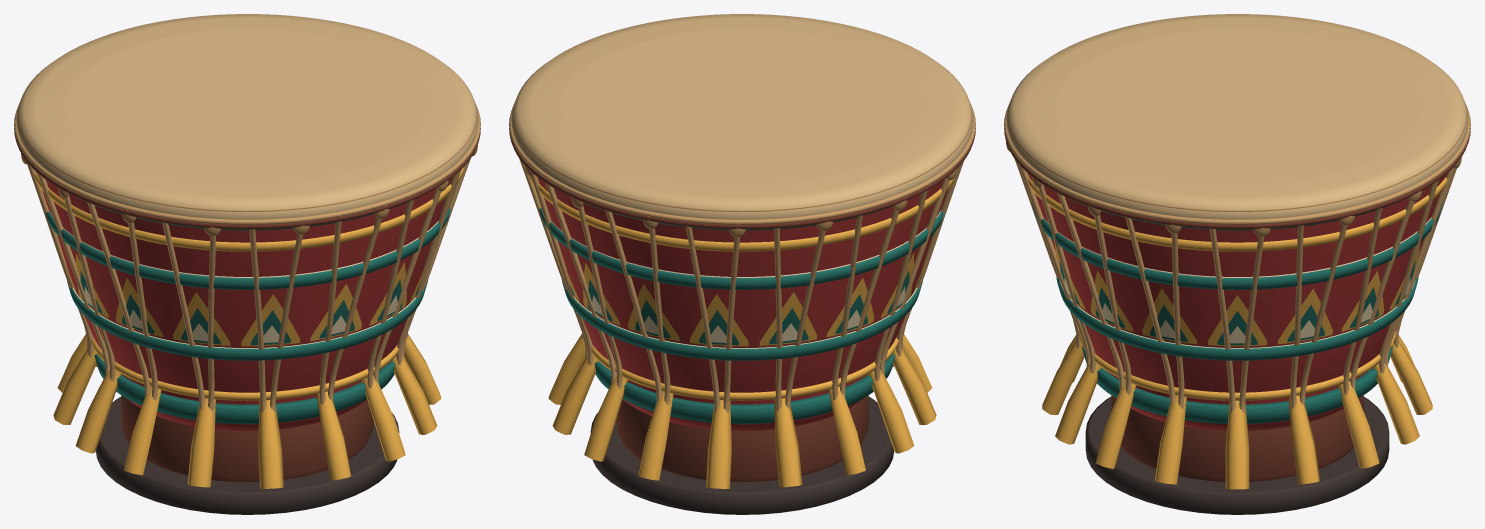
The picture shows the model from 3 angles, left to right: view 1: azimuth 30°, elevation 25°; view 2: azimuth 150°, elevation 25°; view 3: azimuth 270°, elevation 25°; orthographic projection.
Parts seen in each view (by area): view 1: Drumhead, Drum shell, Painted borders, Ring stand, Tension lacing, Tuning keys, Pucuk rebung ornament; view 2: Drumhead, Drum shell, Painted borders, Ring stand, Tension lacing, Tuning keys, Pucuk rebung ornament; view 3: Drumhead, Drum shell, Painted borders, Ring stand, Tension lacing, Tuning keys, Pucuk rebung ornament.
Part boxes in pixels (x1,y1,x2,y2): Drumhead: (14, 14, 480, 229); Drum shell: (35, 171, 452, 430); Painted borders: (34, 167, 464, 424); Ring stand: (96, 395, 399, 514); Tension lacing: (21, 144, 477, 412); Tuning keys: (53, 334, 441, 488); Pucuk rebung ornament: (64, 253, 425, 346); Drumhead: (509, 14, 975, 229); Drum shell: (537, 177, 947, 430); Painted borders: (528, 176, 954, 424); Ring stand: (590, 395, 893, 514); Tension lacing: (519, 149, 968, 412); Tuning keys: (548, 334, 936, 488); Pucuk rebung ornament: (565, 253, 925, 346); Drumhead: (1004, 14, 1470, 229); Drum shell: (1027, 173, 1446, 430); Painted borders: (1027, 177, 1447, 423); Ring stand: (1085, 395, 1389, 514); Tension lacing: (1006, 142, 1461, 412); Tuning keys: (1042, 335, 1432, 489); Pucuk rebung ornament: (1054, 243, 1420, 346).
Size of the model in its own units: 0.8584 by 0.701 by 0.8584.
